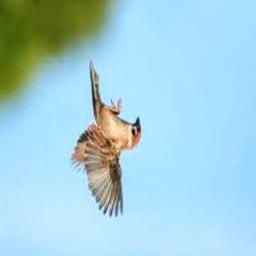Sparrow: (71, 61, 142, 217)
